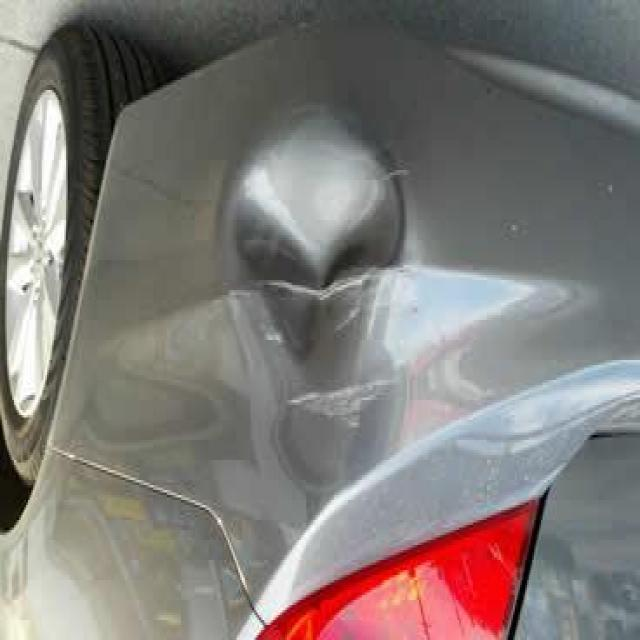dent: (210, 90, 420, 480)
